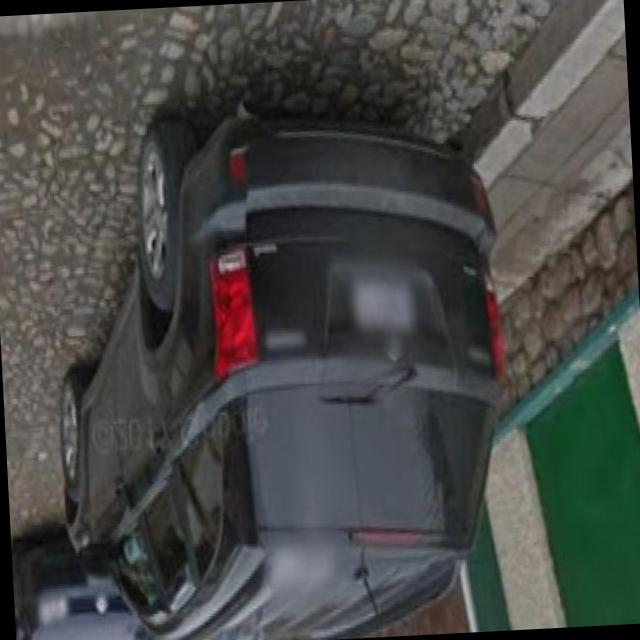car: (20, 83, 535, 640), (52, 129, 536, 640)
